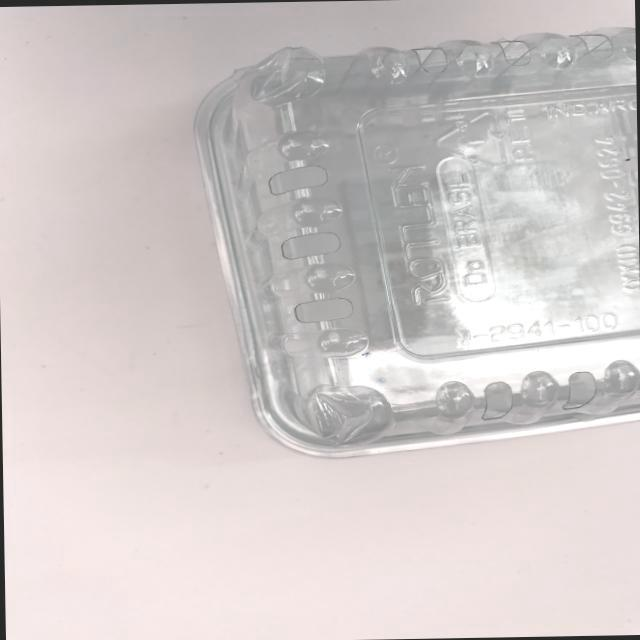plastic: (173, 14, 640, 472)
